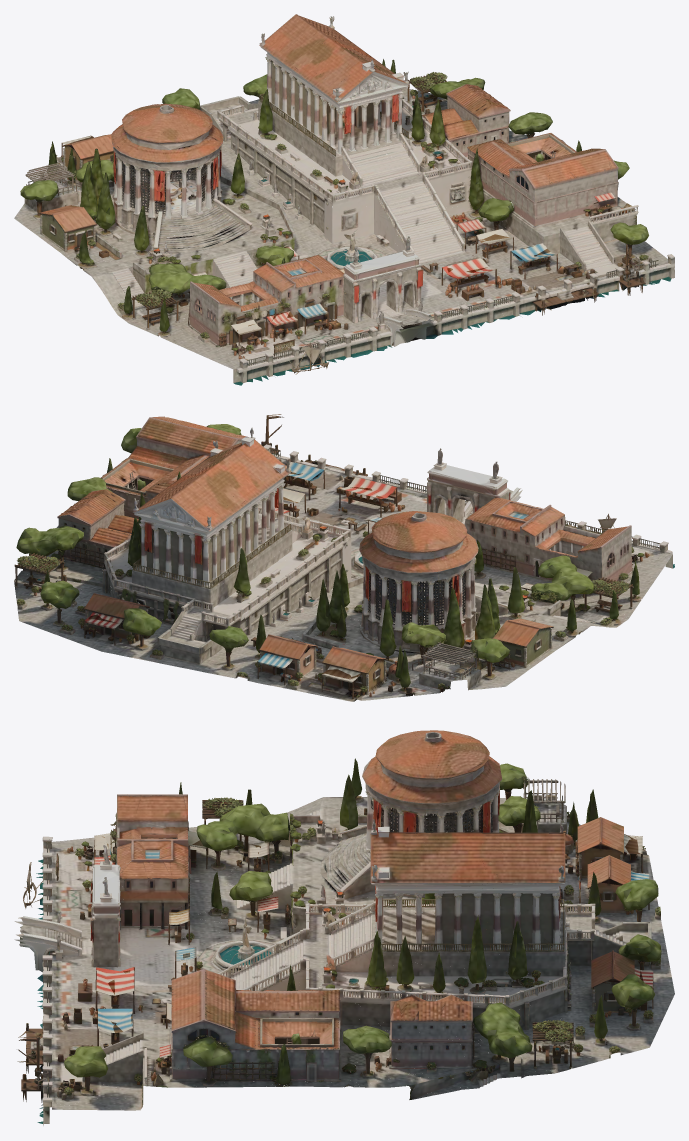
The model's file is boario_leve.glb.
3 renders of one model, top to bottom at view 1: azimuth 30°, elevation 25°; view 2: azimuth 150°, elevation 25°; view 3: azimuth 270°, elevation 25°, orthographic. The views are drawn at different scales.
Parts seen in each view (by area): view 1: Main Mesh, Trees Only; view 2: Main Mesh, Trees Only; view 3: Main Mesh, Trees Only.
Part boxes in pixels (x1,y1,x2,y2): Main Mesh: (14, 14, 674, 385); Trees Only: (20, 59, 648, 331); Main Mesh: (14, 414, 674, 701); Trees Only: (16, 424, 639, 687); Main Mesh: (14, 730, 674, 1125); Trees Only: (64, 758, 661, 1084).
Bounding box in the file's own units: 0.9698 × 0.3103 × 0.9099.
1 material, 1 textured.
